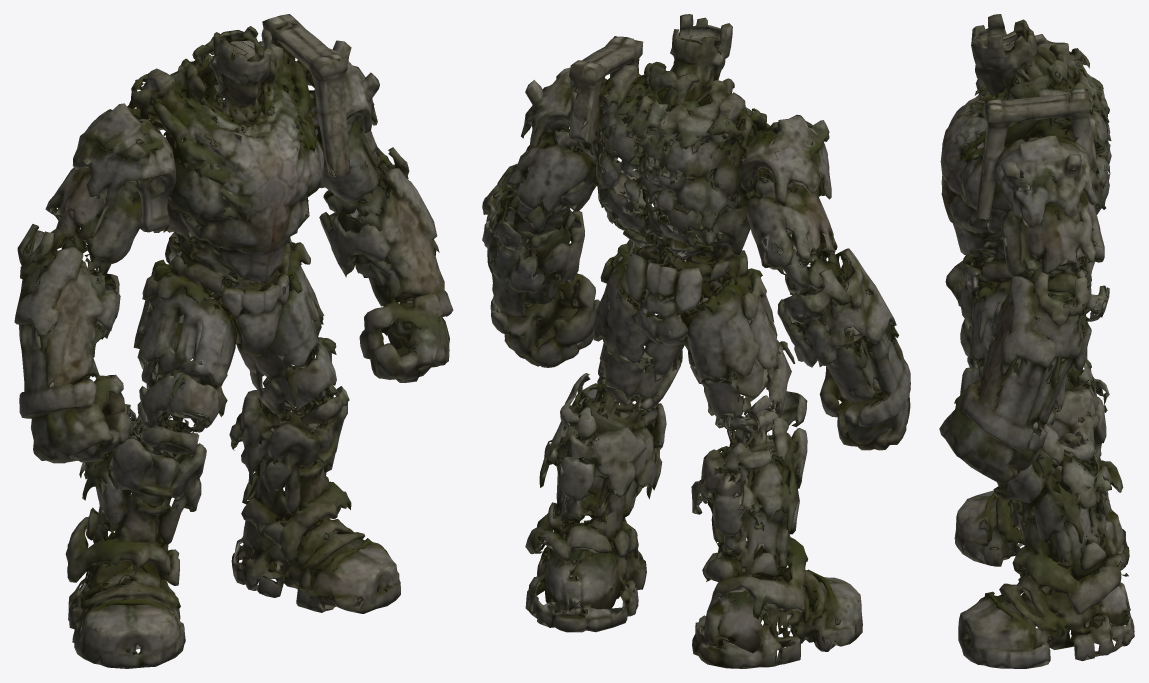
The model's file is голем.glb.
The picture shows the model from 3 angles, left to right: view 1: azimuth 30°, elevation 25°; view 2: azimuth 150°, elevation 25°; view 3: azimuth 270°, elevation 25°; orthographic projection. The views are drawn at different scales.
Parts seen in each view (by area): view 1: geometry_0; view 2: geometry_0; view 3: geometry_0.
Part boxes in pixels (box(x1,y1,x2,y2)): geometry_0: box(14, 14, 453, 668); geometry_0: box(482, 14, 910, 668); geometry_0: box(939, 14, 1134, 668).
Bounding box in the file's own units: 0.736 × 1 × 0.3088.
1 material, 1 textured.
